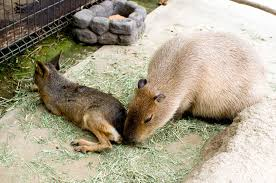capivara: (121, 32, 264, 146)
